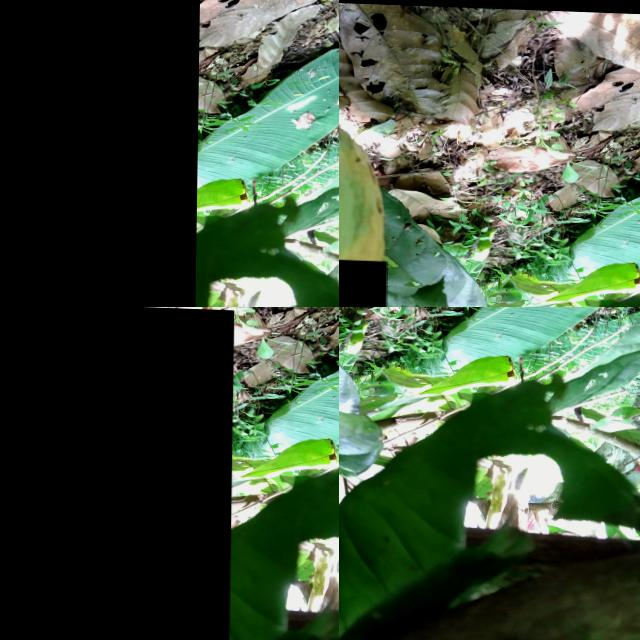Sana: (0, 307, 234, 640), (0, 0, 200, 307)
